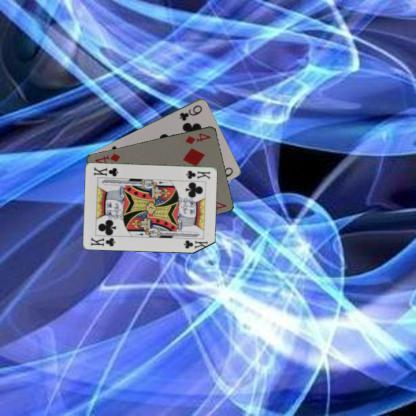4d: (182, 130, 212, 146)
9c: (177, 102, 203, 122)
Kc: (88, 235, 117, 247), (184, 168, 211, 180)
